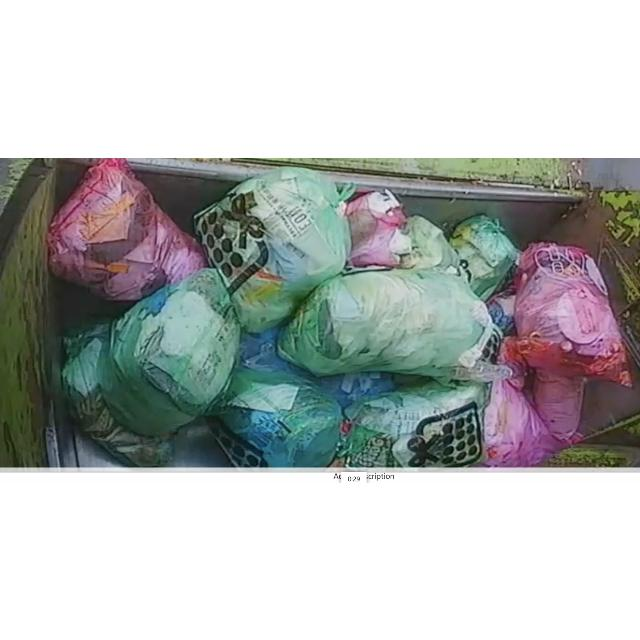general_trashbag: (278, 268, 511, 381), (194, 166, 350, 331), (98, 268, 240, 434), (62, 323, 172, 466), (211, 367, 342, 467), (338, 380, 486, 467), (450, 214, 519, 299), (400, 214, 459, 273)
other_trashbag: (48, 157, 206, 300), (504, 242, 631, 386), (484, 376, 565, 467), (345, 188, 411, 266)
